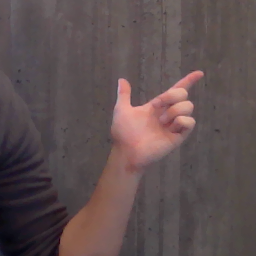L: (108, 68, 206, 166)
